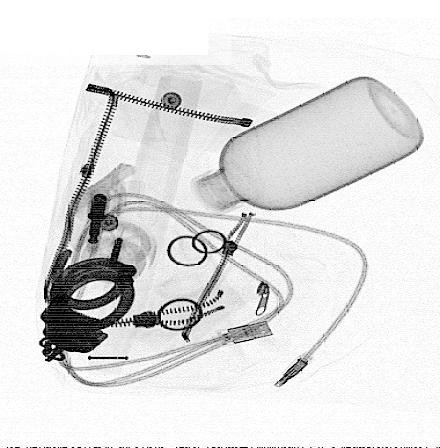HandCuffs: (38, 246, 138, 363)
